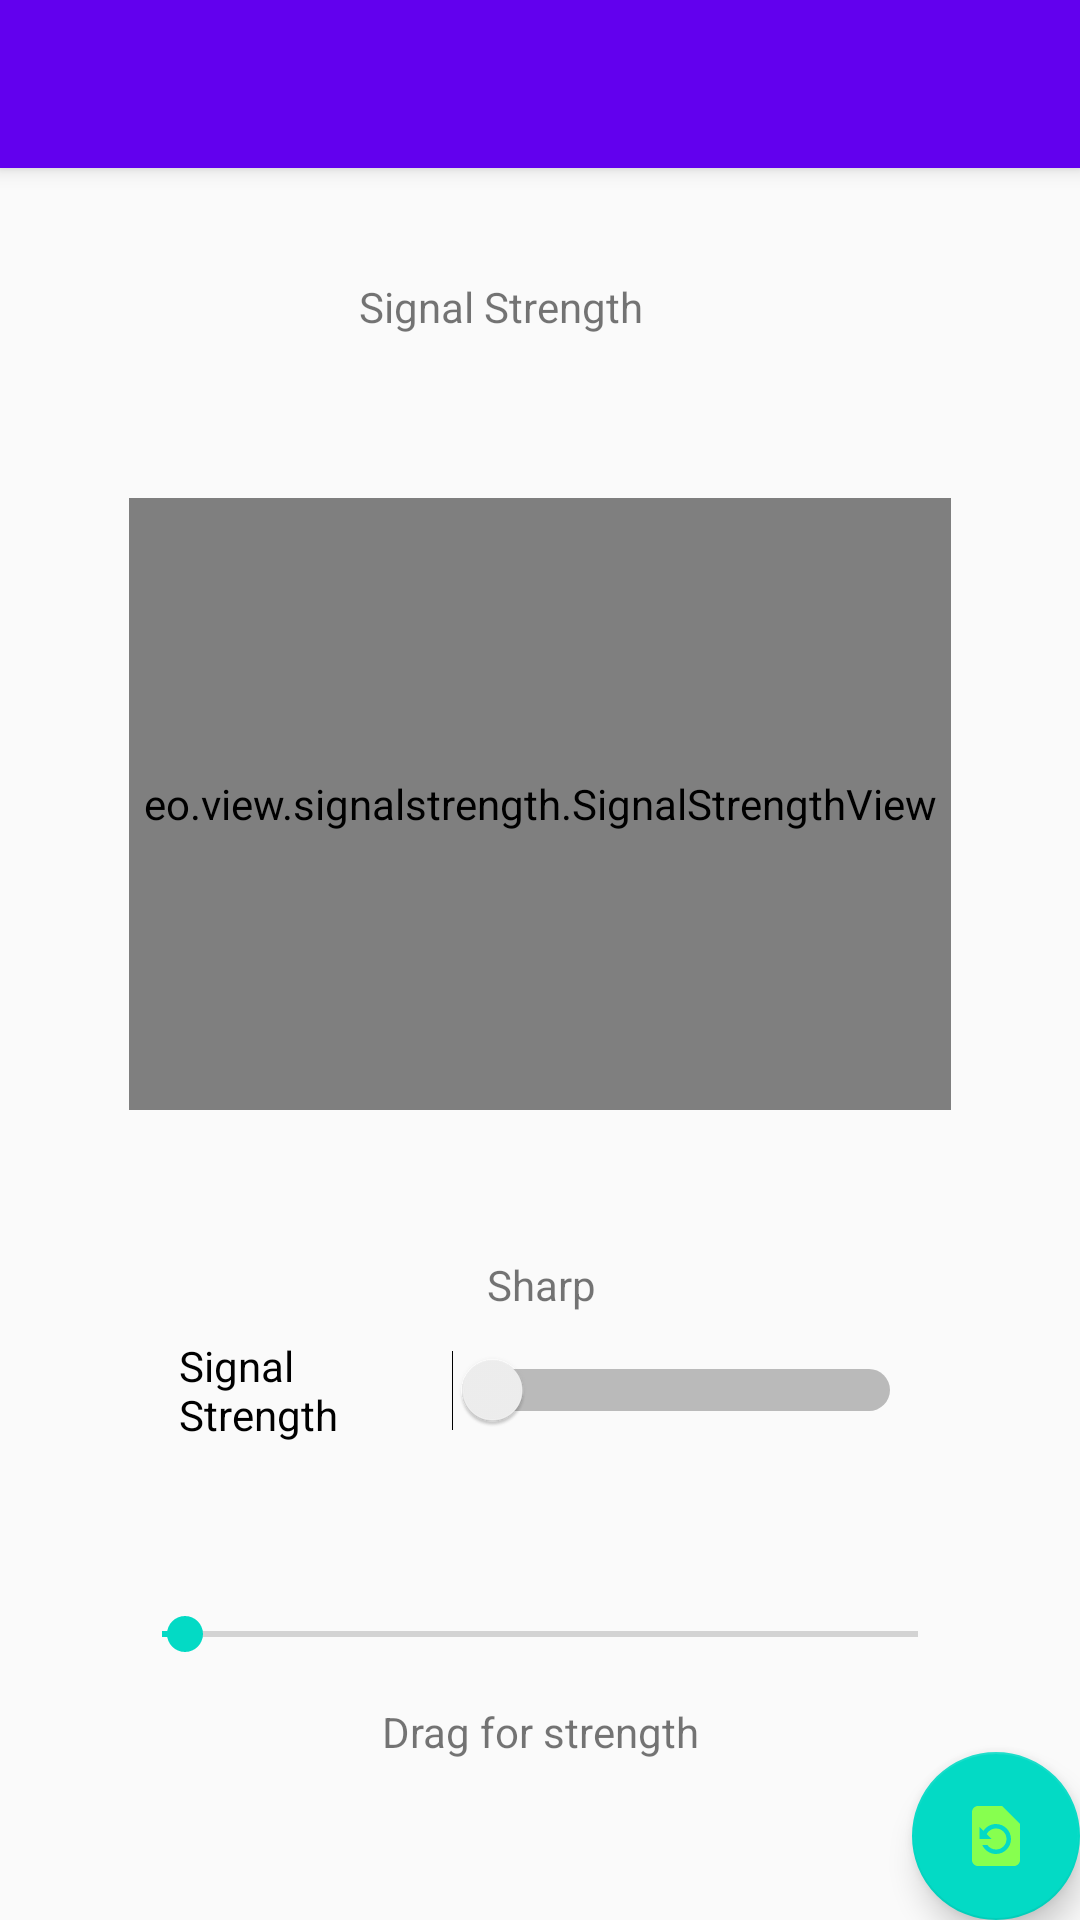

Where to tap for icons on this 1080px x 1920px app screen, as point (x, y):
restore: point (996, 1836)
